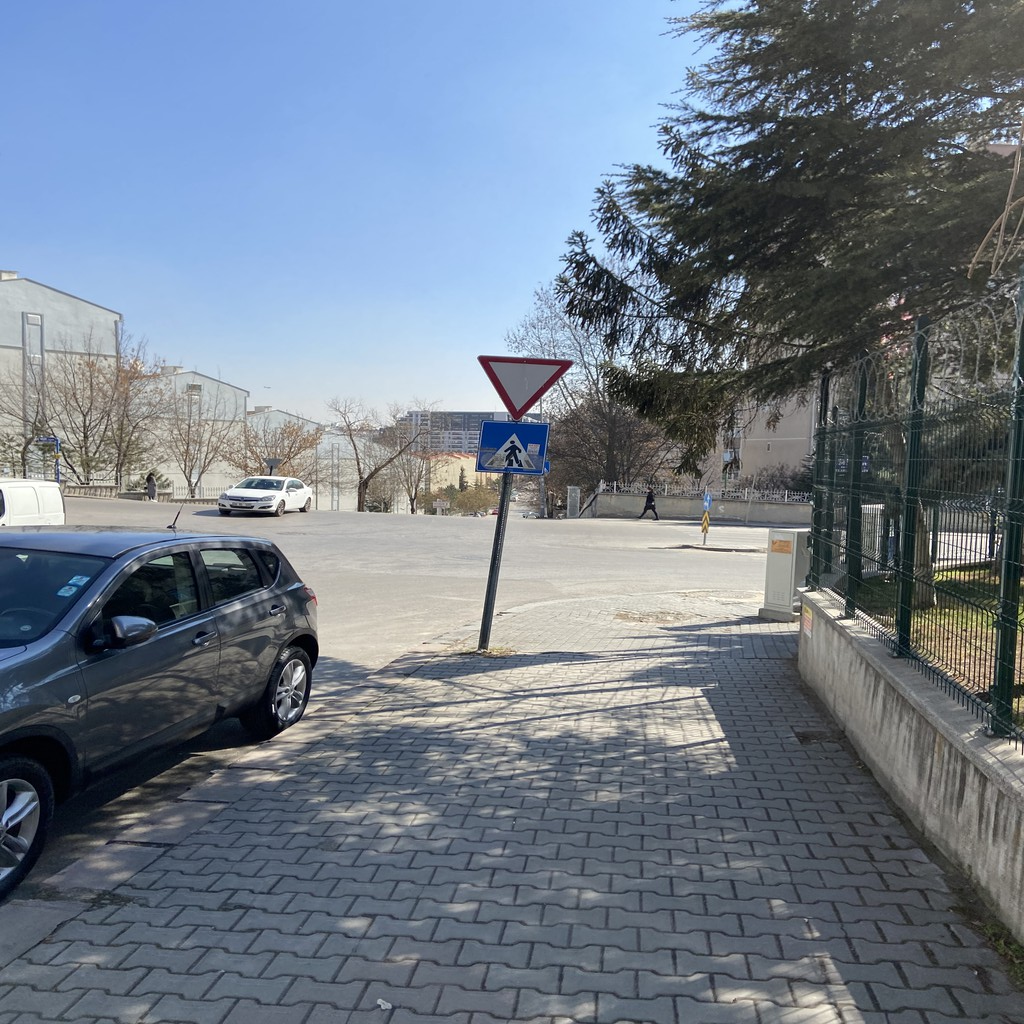Yaya Gecidi: (464, 423, 548, 474)
Yol Ver: (465, 333, 571, 420)
